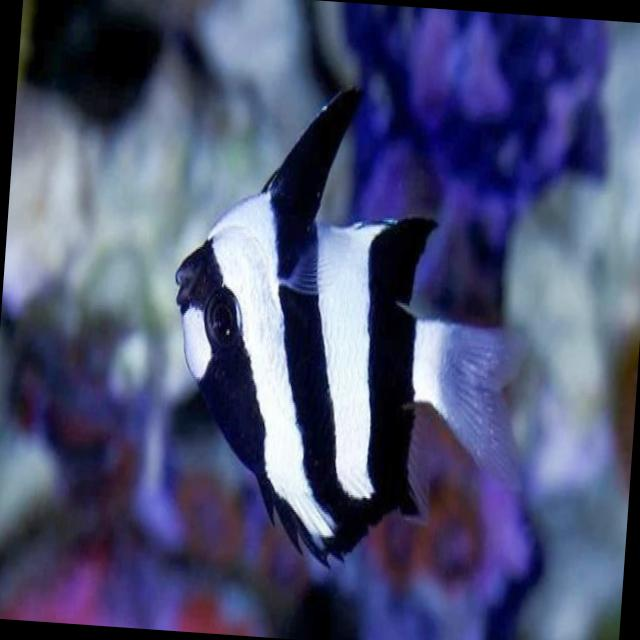ThreeStripedDamselfish: (152, 76, 549, 582)
